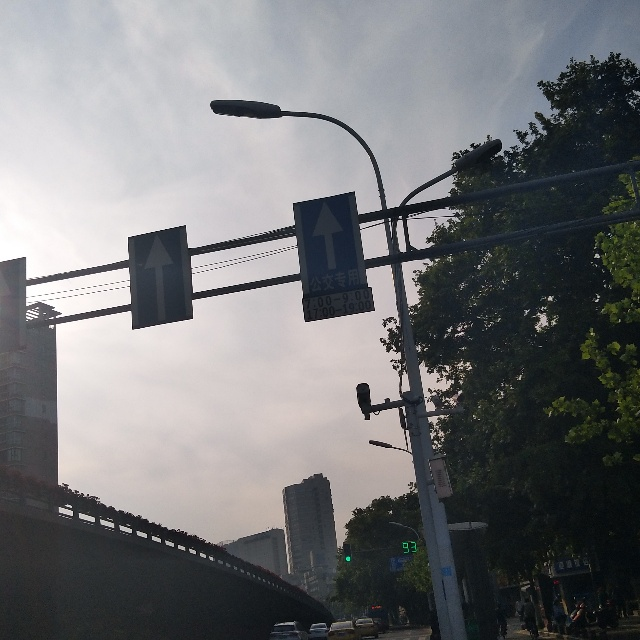straight: (297, 199, 366, 299), (128, 230, 188, 328)
